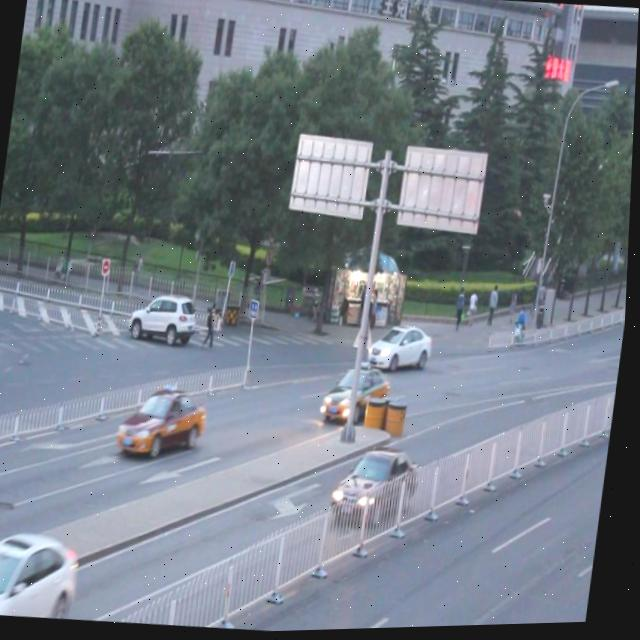car: (0, 525, 88, 622), (334, 446, 425, 529), (120, 384, 212, 463), (322, 361, 397, 433), (128, 290, 199, 348), (370, 319, 438, 379)
